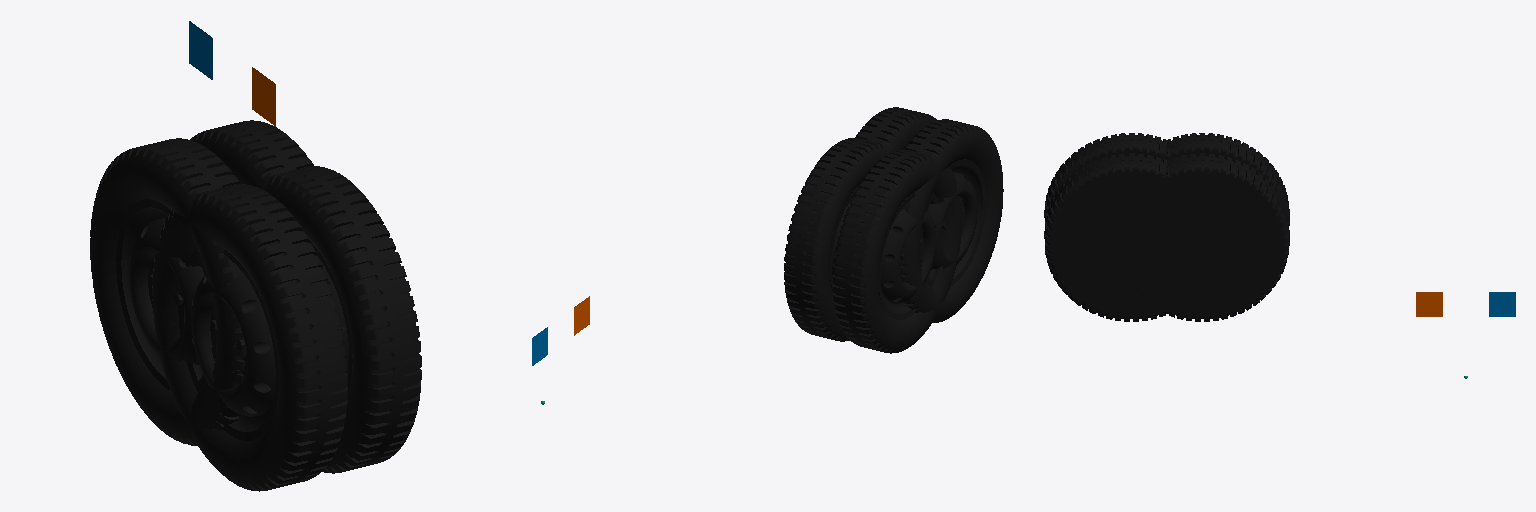
The robot description file, URDF, robot "pioneer3at":
<?xml version="1.0" ?>
<!-- =================================================================================== -->
<!-- |    This document was autogenerated by xacro from pioneer3at.urdf.xacro          | -->
<!-- |    EDITING THIS FILE BY HAND IS NOT RECOMMENDED                                 | -->
<!-- =================================================================================== -->
<robot name="pioneer3at" xmlns:controller="http://playerstage.sourceforge.net/gazebo/xmlschema/#controller" xmlns:interface="http://playerstage.sourceforge.net/gazebo/xmlschema/#interface" xmlns:sensor="http://playerstage.sourceforge.net/gazebo/xmlschema/#sensor" xmlns:xacro="http://ros.org/wiki/xacro">
  <!-- Chassis -->
  <link name="base_link">
    <!--  For pointers on inertial and gazebo-related parameters see
		       * http://wiki.ros.org/urdf/Tutorials/Adding%20Physical%20and%20Collision%20Properties%20to%20a%20URDF%20Model
                       * http://answers.gazebosim.org/question/4372/the-inertia-matrix-explained/
		       * http://gazebosim.org/tutorials?tut=inertia&cat=build_robot, and 
                       * http://gazebosim.org/tutorials/?tut=ros_urdf
                       * http://en.wikipedia.org/wiki/List_of_moment_of_inertia_tensors  
                -->
    <inertial>
      <mass value="21.5"/>
      <!-- P3AT 18.6kg plus three batteries @ 2.4kg each  minus four wheels @ 1.4 kg ea and top plate @ 0.1 kg-->
      <origin xyz=" -0.1 0 0.177"/>
      <inertia ixx="0.3338" ixy="0.0" ixz="0.0" iyy="0.4783" iyz="0.0" izz="0.3338"/>
    </inertial>
    <visual>
      <origin rpy="0 0 0" xyz="0 0 0.177"/>
      <geometry name="pioneer_geom">
        <mesh filename="package://amr_robots_description/meshes/p3at_meshes/chassis.stl"/>
      </geometry>
      <material name="ChassisRed">
        <color rgba="0.851 0.0 0.0 1.0"/>
      </material>
    </visual>
    <collision>
      <origin rpy="0 0 0" xyz="0 0 0.177"/>
      <geometry>
        <mesh filename="package://amr_robots_description/meshes/p3at_meshes/chassis.stl"/>
      </geometry>
    </collision>
  </link>
  <gazebo reference="base_link">
    <material value="Gazebo/Red"/>
  </gazebo>
  <!-- Top -->
  <link name="top_plate">
    <inertial>
      <mass value="0.1"/>
      <origin xyz="-0.025 0 -0.223"/>
      <inertia ixx="1.0" ixy="0.0" ixz="0.0" iyy="1.0" iyz="0.0" izz="1.0"/>
    </inertial>
    <visual>
      <origin rpy="0 0 0" xyz="0 0 0"/>
      <geometry name="pioneer_geom">
        <mesh filename="package://amr_robots_description/meshes/p3at_meshes/top.stl"/>
      </geometry>
      <material name="TopBlack">
        <color rgba="0.038 0.038 0.038 1.0"/>
      </material>
    </visual>
  </link>
  <gazebo reference="top_plate">
    <material>Gazebo/Black</material>
  </gazebo>
  <joint name="base_top_joint" type="fixed">
    <origin rpy="0 0 0" xyz="0.003 0 0.274"/>
    <parent link="base_link"/>
    <child link="top_plate"/>
  </joint>
  <!-- Front + Back Sonar -->
  <link name="front_sonar">
    <inertial>
      <mass value="0.1"/>
      <origin xyz="0 0 0"/>
      <inertia ixx="1.0" ixy="0.0" ixz="0.0" iyy="1.0" iyz="0.0" izz="1.0"/>
    </inertial>
    <visual>
      <origin rpy="0 0 0" xyz="0 0 0"/>
      <geometry name="pioneer_geom">
        <mesh filename="package://amr_robots_description/meshes/p3at_meshes/front_sonar.stl"/>
      </geometry>
      <material name="SonarYellow">
        <color rgba="0.715 0.583 0.210 1.0"/>
      </material>
    </visual>
  </link>
  <gazebo reference="front_sonar">
    <material value="Gazebo/Yellow"/>
  </gazebo>
  <joint name="base_front_joint" type="fixed">
    <origin rpy="0 0 0" xyz="0.193 0 0.25"/>
    <parent link="base_link"/>
    <child link="front_sonar"/>
  </joint>
  <link name="back_sonar">
    <inertial>
      <mass value="0.1"/>
      <origin xyz="0 0 0"/>
      <inertia ixx="1.0" ixy="0.0" ixz="0.0" iyy="1.0" iyz="0.0" izz="1.0"/>
    </inertial>
    <visual>
      <origin rpy="0 0 0" xyz="0 0 0"/>
      <geometry name="pioneer_geom">
        <mesh filename="package://amr_robots_description/meshes/p3at_meshes/back_sonar.stl"/>
      </geometry>
      <material name="SonarYellow">
        <color rgba="0.715 0.583 0.210 1.0"/>
      </material>
    </visual>
  </link>
  <gazebo reference="back_sonar">
    <material value="Gazebo/Yellow"/>
  </gazebo>
  <joint name="base_back_joint" type="fixed">
    <origin rpy="0 0 0" xyz="-0.187 0 0.247"/>
    <parent link="base_link"/>
    <child link="back_sonar"/>
  </joint>

  <!-- Aruco markers -->
  <link name="aruco_left">
    <visual>
      <origin rpy="0 0 3.14" xyz="0 0.2 0.4"/>
      <geometry name="aaa">
        <mesh filename="package://targets_path_planning/meshes/aruco_1.dae"/>
      </geometry>
    </visual>
    <inertial>
      <mass value="1e-5"/>
      <origin xyz="0 0 0.1"/>
      <inertia ixx="1e-5" ixy="0.0" ixz="0.0" iyy="1e-5" iyz="0.0" izz="1e-5"/>
    </inertial>
  </link>
  <joint name="aruco_left_joint" type="fixed">
    <origin rpy="0 0 0" xyz="0 0 0"/>
    <parent link="base_link"/>
    <child link="aruco_left"/>
  </joint>
  <link name="aruco_right">
    <visual>
      <origin rpy="0 0 3.14" xyz="0 -0.2 0.4"/>
      <geometry name="bbb">
        <mesh filename="package://targets_path_planning/meshes/aruco_2.dae"/>
      </geometry>
    </visual>
    <inertial>
      <mass value="1e-5"/>
      <origin xyz="0 0 0.1"/>
      <inertia ixx="1e-5" ixy="0.0" ixz="0.0" iyy="1e-5" iyz="0.0" izz="1e-5"/>
    </inertial>
  </link>
  <joint name="aruco_right_joint" type="fixed">
    <origin rpy="0 0 0" xyz="0 0 0"/>
    <parent link="base_link"/>
    <child link="aruco_right"/>
  </joint>

  <!-- Charuco board for calibration -->
  <!--link name="charuco_board">
    <visual>
      <origin rpy="0 0 0" xyz="0.3 0 0.4"/>
      <geometry name="ccc">
        <mesh filename="package://targets_path_planning/meshes/charuco_board.dae"/>
      </geometry>
    </visual>
    <inertial>
      <mass value="1e-5"/>
      <origin xyz="0 0 0"/>
      <inertia ixx="1e-5" ixy="0.0" ixz="0.0" iyy="1e-5" iyz="0.0" izz="1e-5"/>
    </inertial>
  </link>
  <joint name="charuco_board_joint" type="fixed">
    <origin rpy="0 0 0" xyz="0 0 0"/>
    <parent link="base_link"/>
    <child link="charuco_board"/>
  </joint-->

  <!-- Front Axles + Wheels + Hubcaps -->
  <link name="p3at_front_left_axle">
    <inertial>
      <mass value="0.1"/>
      <origin xyz="0 0 0"/>
      <inertia ixx="1.0" ixy="0.0" ixz="0.0" iyy="1.0" iyz="0.0" izz="1.0"/>
    </inertial>
    <visual>
      <origin rpy="0 0 0" xyz="0 0 0"/>
      <geometry name="pioneer_geom">
        <mesh filename="package://amr_robots_description/meshes/p3at_meshes/axle.stl"/>
      </geometry>
      <material name="AxleGrey">
        <color rgba="0.5 0.5 0.5 1"/>
      </material>
    </visual>
  </link>
  <gazebo reference="p3at_front_left_axle">
    <material value="Gazebo/Grey"/>
  </gazebo>
  <joint name="base_front_left_axle_joint" type="fixed">
    <origin rpy="0 0 0" xyz="0.135 0.156 0.111"/>
    <parent link="base_link"/>
    <child link="p3at_front_left_axle"/>
  </joint>
  <link name="p3at_front_left_hub">
    <inertial>
      <mass value="0.1"/>
      <origin xyz="0 0 0"/>
      <inertia ixx="1.0" ixy="0.0" ixz="0.0" iyy="1.0" iyz="0.0" izz="1.0"/>
    </inertial>
    <visual>
      <origin rpy="0 0 0" xyz="0 0 0"/>
      <geometry name="pioneer_geom">
        <mesh filename="package://amr_robots_description/meshes/p3at_meshes/left_hubcap.stl"/>
      </geometry>
      <material name="HubcapYellow">
        <color rgba="1.0 0.811 0.151 1.0"/>
      </material>
    </visual>
  </link>
  <gazebo reference="p3at_front_left_hub">
    <material value="Gazebo/Yellow"/>
  </gazebo>
  <joint name="base_front_left_hub_joint" type="fixed">
    <origin rpy="0 0 0" xyz="0 0.041 0"/>
    <parent link="p3at_front_left_axle"/>
    <child link="p3at_front_left_hub"/>
  </joint>
  <link name="p3at_front_left_wheel">
    <inertial>
      <mass value="1.2"/>
      <!-- 1.4 kg - axle 0.1 kg - hub 0.1 kg -->
      <origin xyz="0 0 0"/>
      <inertia ixx="0.012411765597" ixy="0" ixz="0" iyy="0.015218160428" iyz="0" izz="0.011763977943"/>
    </inertial>
    <visual>
      <origin rpy="0 0 0" xyz="0 0 0"/>
      <geometry name="pioneer_geom">
        <mesh filename="package://amr_robots_description/meshes/p3at_meshes/wheel.stl"/>
      </geometry>
      <material name="WheelBlack">
        <color rgba="0.117 0.117 0.117 1"/>
      </material>
    </visual>
    <collision>
      <origin rpy="-1.57079635 0 0" xyz="0 0 0"/>
      <geometry>
        <!--mesh filename="package://amr_robots_description/meshes/p3at_meshes/wheel.stl"/-->
        <cylinder length="0.075" radius="0.111"/>
      </geometry>
    </collision>
  </link>
  <gazebo reference="p3at_front_left_wheel">
    <material value="Gazebo/Black"/>
  </gazebo>
  <joint name="p3at_front_left_wheel_joint" type="continuous">
    <axis xyz="0 1 0"/>
    <anchor xyz="0 0 0"/>
    <limit effort="100" velocity="100"/>
    <joint_properties damping="0.7"/>
    <origin rpy="0 0 0" xyz="0 0 0"/>
    <parent link="p3at_front_left_hub"/>
    <child link="p3at_front_left_wheel"/>
  </joint>
  <!-- Back Axles + Wheels + Hubcaps -->
  <link name="p3at_back_left_axle">
    <inertial>
      <mass value="0.1"/>
      <origin xyz="0 0 0"/>
      <inertia ixx="1.0" ixy="0.0" ixz="0.0" iyy="1.0" iyz="0.0" izz="1.0"/>
    </inertial>
    <visual>
      <origin rpy="0 0 0" xyz="0 0 0"/>
      <geometry name="pioneer_geom">
        <mesh filename="package://amr_robots_description/meshes/p3at_meshes/axle.stl"/>
      </geometry>
      <material name="AxleGrey">
        <color rgba="0.5 0.5 0.5 1"/>
      </material>
    </visual>
    <collision>
      <origin rpy="0 0 0" xyz="0 0 0"/>
      <geometry>
        <mesh filename="package://amr_robots_description/meshes/p3at_meshes/axle.stl"/>
      </geometry>
    </collision>
  </link>
  <gazebo reference="p3at_back_left_axle">
    <material value="Gazebo/Grey"/>
  </gazebo>
  <joint name="p3at_back_left_axle_joint" type="fixed">
    <origin rpy="0 0 0" xyz="-0.134 0.156 0.111"/>
    <parent link="base_link"/>
    <child link="p3at_back_left_axle"/>
  </joint>
  <link name="p3at_back_left_hub">
    <inertial>
      <mass value="0.1"/>
      <origin xyz="0 0 0"/>
      <inertia ixx="1.0" ixy="0.0" ixz="0.0" iyy="1.0" iyz="0.0" izz="1.0"/>
    </inertial>
    <visual>
      <origin rpy="0 0 0" xyz="0 0 0"/>
      <geometry name="pioneer_geom">
        <mesh filename="package://amr_robots_description/meshes/p3at_meshes/left_hubcap.stl"/>
      </geometry>
      <material name="HubcapYellow"/>
    </visual>
    <collision>
      <origin rpy="0 0 0" xyz="0 0 0"/>
      <geometry>
        <mesh filename="package://amr_robots_description/meshes/p3at_meshes/left_hubcap.stl"/>
      </geometry>
    </collision>
  </link>
  <gazebo reference="p3at_back_left_hub">
    <material value="Gazebo/Yellow"/>
  </gazebo>
  <joint name="p3at_back_left_hub_joint" type="fixed">
    <origin rpy="0 0 0" xyz="-0 0.041 0"/>
    <parent link="p3at_back_left_axle"/>
    <child link="p3at_back_left_hub"/>
  </joint>
  <link name="p3at_back_left_wheel">
    <inertial>
      <mass value="1.2"/>
      <origin xyz="0 0 0"/>
      <inertia ixx="0.012411765597" ixy="0" ixz="0" iyy="0.015218160428" iyz="0" izz="0.011763977943"/>
    </inertial>
    <visual>
      <origin rpy="0 0 0" xyz="0 0 0"/>
      <geometry name="pioneer_geom">
        <mesh filename="package://amr_robots_description/meshes/p3at_meshes/wheel.stl"/>
      </geometry>
      <material name="WheelBlack"/>
    </visual>
    <collision>
      <origin rpy="-1.57079635 0 0" xyz="0 0 0"/>
      <geometry>
        <!--mesh filename="package://amr_robots_description/meshes/p3at_meshes/wheel.stl"/-->
        <cylinder length="0.075" radius="0.111"/>
      </geometry>
    </collision>
  </link>
  <gazebo reference="p3at_back_left_wheel">
    <material value="Gazebo/Black"/>
  </gazebo>
  <joint name="p3at_back_left_wheel_joint" type="continuous">
    <axis xyz="0 1 0"/>
    <anchor xyz="0 0 0"/>
    <limit effort="100" velocity="100"/>
    <joint_properties damping="0.7"/>
    <origin rpy="0 0 0" xyz="0 0 0"/>
    <parent link="p3at_back_left_hub"/>
    <child link="p3at_back_left_wheel"/>
  </joint>
  <!-- see http://gazebosim.org/tutorials/?tut=ros_urdf -->
  <gazebo reference="p3at_back_left_wheel">
    <kp>1000000.0</kp>
    <!-- kp and kd for rubber -->
    <kd>100.0</kd>
    <mu1>1.0</mu1>
    <!-- was 10 -->
    <mu2>1.0</mu2>
    <!-- how to get these into <surface><friction><ode>... ?
        slip1 0.5 /slip1 
         slip2 0 /slip2 
      -->
    <!-- fdir1 0 1 0 /fdir1 -->
    <!-- see http://github.com/MobileRobots/amr-ros-config/issues/6 -->
    <maxVel>1.0</maxVel>
    <minDepth>0.00</minDepth>
    <material value="Gazebo/Black"/>
  </gazebo>
  <gazebo reference="p3at_front_left_wheel">
    <kp>1000000.0</kp>
    <!-- kp and kd for rubber -->
    <kd>100.0</kd>
    <mu1>1.0</mu1>
    <!-- was 10 -->
    <mu2>1.0</mu2>
    <!-- how to get these into <surface><friction><ode>... ?
        slip1 0.5 /slip1 
         slip2 0 /slip2 
      -->
    <!-- fdir1 0 1 0 /fdir1 -->
    <!-- see http://github.com/MobileRobots/amr-ros-config/issues/6 -->
    <maxVel>1.0</maxVel>
    <minDepth>0.00</minDepth>
    <material value="Gazebo/Black"/>
  </gazebo>
  <!-- Front Axles + Wheels + Hubcaps -->
  <link name="p3at_front_right_axle">
    <inertial>
      <mass value="0.1"/>
      <origin xyz="0 0 0"/>
      <inertia ixx="1.0" ixy="0.0" ixz="0.0" iyy="1.0" iyz="0.0" izz="1.0"/>
    </inertial>
    <visual>
      <origin rpy="0 0 0" xyz="0 0 0"/>
      <geometry name="pioneer_geom">
        <mesh filename="package://amr_robots_description/meshes/p3at_meshes/axle.stl"/>
      </geometry>
      <material name="AxleGrey">
        <color rgba="0.5 0.5 0.5 1"/>
      </material>
    </visual>
  </link>
  <gazebo reference="p3at_front_right_axle">
    <material value="Gazebo/Grey"/>
  </gazebo>
  <joint name="base_front_right_axle_joint" type="fixed">
    <origin rpy="0 0 0" xyz="0.135 -0.156 0.111"/>
    <parent link="base_link"/>
    <child link="p3at_front_right_axle"/>
  </joint>
  <link name="p3at_front_right_hub">
    <inertial>
      <mass value="0.1"/>
      <origin xyz="0 0 0"/>
      <inertia ixx="1.0" ixy="0.0" ixz="0.0" iyy="1.0" iyz="0.0" izz="1.0"/>
    </inertial>
    <visual>
      <origin rpy="0 0 0" xyz="0 0 0"/>
      <geometry name="pioneer_geom">
        <mesh filename="package://amr_robots_description/meshes/p3at_meshes/right_hubcap.stl"/>
      </geometry>
      <material name="HubcapYellow">
        <color rgba="1.0 0.811 0.151 1.0"/>
      </material>
    </visual>
  </link>
  <gazebo reference="p3at_front_right_hub">
    <material value="Gazebo/Yellow"/>
  </gazebo>
  <joint name="base_front_right_hub_joint" type="fixed">
    <origin rpy="0 0 0" xyz="0 -0.041 0"/>
    <parent link="p3at_front_right_axle"/>
    <child link="p3at_front_right_hub"/>
  </joint>
  <link name="p3at_front_right_wheel">
    <inertial>
      <mass value="1.2"/>
      <!-- 1.4 kg - axle 0.1 kg - hub 0.1 kg -->
      <origin xyz="0 0 0"/>
      <inertia ixx="0.012411765597" ixy="0" ixz="0" iyy="0.015218160428" iyz="0" izz="0.011763977943"/>
    </inertial>
    <visual>
      <origin rpy="0 0 0" xyz="0 0 0"/>
      <geometry name="pioneer_geom">
        <mesh filename="package://amr_robots_description/meshes/p3at_meshes/wheel.stl"/>
      </geometry>
      <material name="WheelBlack">
        <color rgba="0.117 0.117 0.117 1"/>
      </material>
    </visual>
    <collision>
      <origin rpy="-1.57079635 0 0" xyz="0 0 0"/>
      <geometry>
        <!--mesh filename="package://amr_robots_description/meshes/p3at_meshes/wheel.stl"/-->
        <cylinder length="0.075" radius="0.111"/>
      </geometry>
    </collision>
  </link>
  <gazebo reference="p3at_front_right_wheel">
    <material value="Gazebo/Black"/>
  </gazebo>
  <joint name="p3at_front_right_wheel_joint" type="continuous">
    <axis xyz="0 1 0"/>
    <anchor xyz="0 0 0"/>
    <limit effort="100" velocity="100"/>
    <joint_properties damping="0.7"/>
    <origin rpy="0 0 0" xyz="0 0 0"/>
    <parent link="p3at_front_right_hub"/>
    <child link="p3at_front_right_wheel"/>
  </joint>
  <!-- Back Axles + Wheels + Hubcaps -->
  <link name="p3at_back_right_axle">
    <inertial>
      <mass value="0.1"/>
      <origin xyz="0 0 0"/>
      <inertia ixx="1.0" ixy="0.0" ixz="0.0" iyy="1.0" iyz="0.0" izz="1.0"/>
    </inertial>
    <visual>
      <origin rpy="0 0 0" xyz="0 0 0"/>
      <geometry name="pioneer_geom">
        <mesh filename="package://amr_robots_description/meshes/p3at_meshes/axle.stl"/>
      </geometry>
      <material name="AxleGrey">
        <color rgba="0.5 0.5 0.5 1"/>
      </material>
    </visual>
    <collision>
      <origin rpy="0 0 0" xyz="0 0 0"/>
      <geometry>
        <mesh filename="package://amr_robots_description/meshes/p3at_meshes/axle.stl"/>
      </geometry>
    </collision>
  </link>
  <gazebo reference="p3at_back_right_axle">
    <material value="Gazebo/Grey"/>
  </gazebo>
  <joint name="p3at_back_right_axle_joint" type="fixed">
    <origin rpy="0 0 0" xyz="-0.134 -0.156 0.111"/>
    <parent link="base_link"/>
    <child link="p3at_back_right_axle"/>
  </joint>
  <link name="p3at_back_right_hub">
    <inertial>
      <mass value="0.1"/>
      <origin xyz="0 0 0"/>
      <inertia ixx="1.0" ixy="0.0" ixz="0.0" iyy="1.0" iyz="0.0" izz="1.0"/>
    </inertial>
    <visual>
      <origin rpy="0 0 0" xyz="0 0 0"/>
      <geometry name="pioneer_geom">
        <mesh filename="package://amr_robots_description/meshes/p3at_meshes/right_hubcap.stl"/>
      </geometry>
      <material name="HubcapYellow"/>
    </visual>
    <collision>
      <origin rpy="0 0 0" xyz="0 0 0"/>
      <geometry>
        <mesh filename="package://amr_robots_description/meshes/p3at_meshes/right_hubcap.stl"/>
      </geometry>
    </collision>
  </link>
  <gazebo reference="p3at_back_right_hub">
    <material value="Gazebo/Yellow"/>
  </gazebo>
  <joint name="p3at_back_right_hub_joint" type="fixed">
    <origin rpy="0 0 0" xyz="-0 -0.041 0"/>
    <parent link="p3at_back_right_axle"/>
    <child link="p3at_back_right_hub"/>
  </joint>
  <link name="p3at_back_right_wheel">
    <inertial>
      <mass value="1.2"/>
      <origin xyz="0 0 0"/>
      <inertia ixx="0.012411765597" ixy="0" ixz="0" iyy="0.015218160428" iyz="0" izz="0.011763977943"/>
    </inertial>
    <visual>
      <origin rpy="0 0 0" xyz="0 0 0"/>
      <geometry name="pioneer_geom">
        <mesh filename="package://amr_robots_description/meshes/p3at_meshes/wheel.stl"/>
      </geometry>
      <material name="WheelBlack"/>
    </visual>
    <collision>
      <origin rpy="-1.57079635 0 0" xyz="0 0 0"/>
      <geometry>
        <!--mesh filename="package://amr_robots_description/meshes/p3at_meshes/wheel.stl"/-->
        <cylinder length="0.075" radius="0.111"/>
      </geometry>
    </collision>
  </link>
  <gazebo reference="p3at_back_right_wheel">
    <material value="Gazebo/Black"/>
  </gazebo>
  <joint name="p3at_back_right_wheel_joint" type="continuous">
    <axis xyz="0 1 0"/>
    <anchor xyz="0 0 0"/>
    <limit effort="100" velocity="100"/>
    <joint_properties damping="0.7"/>
    <origin rpy="0 0 0" xyz="0 0 0"/>
    <parent link="p3at_back_right_hub"/>
    <child link="p3at_back_right_wheel"/>
  </joint>
  <!-- see http://gazebosim.org/tutorials/?tut=ros_urdf -->
  <gazebo reference="p3at_back_right_wheel">
    <kp>1000000.0</kp>
    <!-- kp and kd for rubber -->
    <kd>100.0</kd>
    <mu1>1.0</mu1>
    <!-- was 10 -->
    <mu2>1.0</mu2>
    <!-- how to get these into <surface><friction><ode>... ?
        slip1 0.5 /slip1 
         slip2 0 /slip2 
      -->
    <!-- fdir1 0 1 0 /fdir1 -->
    <!-- see http://github.com/MobileRobots/amr-ros-config/issues/6 -->
    <maxVel>1.0</maxVel>
    <minDepth>0.00</minDepth>
    <material value="Gazebo/Black"/>
  </gazebo>
  <gazebo reference="p3at_front_right_wheel">
    <kp>1000000.0</kp>
    <!-- kp and kd for rubber -->
    <kd>100.0</kd>
    <mu1>1.0</mu1>
    <!-- was 10 -->
    <mu2>1.0</mu2>
    <!-- how to get these into <surface><friction><ode>... ?
        slip1 0.5 /slip1 
         slip2 0 /slip2 
      -->
    <!-- fdir1 0 1 0 /fdir1 -->
    <!-- see http://github.com/MobileRobots/amr-ros-config/issues/6 -->
    <maxVel>1.0</maxVel>
    <minDepth>0.00</minDepth>
    <material value="Gazebo/Black"/>
  </gazebo>
  <link name="dir_point">
    <inertial>
      <mass value="0.1"/>
      <origin xyz="0.1 0 0" rpy="0 0 0"/>
      <inertia ixx="0.3338" ixy="0.0" ixz="0.0" iyy="0.4783" iyz="0.0" izz="0.3338"/>
    </inertial>
    <visual>
      <geometry>
        <sphere radius="0.01"/>
      </geometry>
      <material name="white"/>
    </visual>
  </link>
  <gazebo reference="dir_point">
    <material value="Gazebo/White"/>
  </gazebo>
  <joint name="dir_point_joint" type="prismatic">
    <axis xyz="1 0 0"/>
    <limit effort="0" velocity="0" lower="0" upper="0"/>
    <origin rpy="0 0 0" xyz="0.1 0 0"/>
    <parent link="base_link"/>
    <child link="dir_point"/>
  </joint>
  <gazebo>
    <plugin filename="libgazebo_ros_skid_steer_drive.so" name="skid_steer_drive_controller">
      <updateRate>100.0</updateRate>
      <leftFrontJoint>p3at_front_left_wheel_joint</leftFrontJoint>
      <rightFrontJoint>p3at_front_right_wheel_joint</rightFrontJoint>
      <leftRearJoint>p3at_back_left_wheel_joint</leftRearJoint>
      <rightRearJoint>p3at_back_right_wheel_joint</rightRearJoint>
      <wheelSeparation>0.4</wheelSeparation>
      <wheelDiameter>0.215</wheelDiameter>
      <robotBaseFrame>base_link</robotBaseFrame>
      <MaxForce>5.0</MaxForce>
      <torque>200</torque>
      <commandTopic>cmd_vel</commandTopic>
      <odometryTopic>odom</odometryTopic>
      <odometryFrame>odom</odometryFrame>
      <broadcastTF>1</broadcastTF>
    </plugin>
  </gazebo>
</robot>

--- Render facts (derived) ---
The picture shows the robot from 3 angles, left to right: view 1: azimuth 30°, elevation 25°; view 2: azimuth 150°, elevation 25°; view 3: azimuth 270°, elevation 25°; orthographic projection.
Robot: pioneer3at — 19 links, 18 joints (4 continuous, 1 prismatic, 13 fixed); root link base_link; default pose: all joints at 0.
Visible links, largest first — view 1: p3at_back_right_wheel, p3at_back_left_wheel, p3at_front_right_wheel, p3at_front_left_wheel, aruco_left, aruco_right; view 2: p3at_back_left_wheel, p3at_back_right_wheel, p3at_front_left_wheel, p3at_front_right_wheel; view 3: p3at_front_left_wheel, p3at_front_right_wheel, p3at_back_left_wheel, p3at_back_right_wheel, aruco_left, aruco_right.
Boxes of the visible links, x1=… form: p3at_back_right_wheel: x1=152, y1=184, x2=347, y2=491; p3at_back_left_wheel: x1=90, y1=138, x2=245, y2=445; p3at_front_right_wheel: x1=265, y1=166, x2=421, y2=473; p3at_front_left_wheel: x1=190, y1=120, x2=313, y2=190; aruco_left: x1=189, y1=21, x2=212, y2=79; aruco_right: x1=252, y1=67, x2=275, y2=126; p3at_back_left_wheel: x1=833, y1=149, x2=961, y2=353; p3at_back_right_wheel: x1=901, y1=119, x2=1003, y2=322; p3at_front_left_wheel: x1=784, y1=138, x2=886, y2=341; p3at_front_right_wheel: x1=855, y1=107, x2=936, y2=153; p3at_front_left_wheel: x1=1119, y1=153, x2=1289, y2=321; p3at_front_right_wheel: x1=1044, y1=153, x2=1213, y2=321; p3at_back_left_wheel: x1=1162, y1=133, x2=1289, y2=225; p3at_back_right_wheel: x1=1044, y1=133, x2=1169, y2=220; aruco_left: x1=1489, y1=292, x2=1515, y2=316; aruco_right: x1=1416, y1=292, x2=1442, y2=316.
Bounding box of the posed robot: 1.23 × 2.62 × 0.967 m (x, y, z).
Meshes: 10 distinct files referenced, 6 mesh visuals loaded (1 binary STL, 2 Collada DAE); not drawn: 12 (reference not matched to a file when rendering).